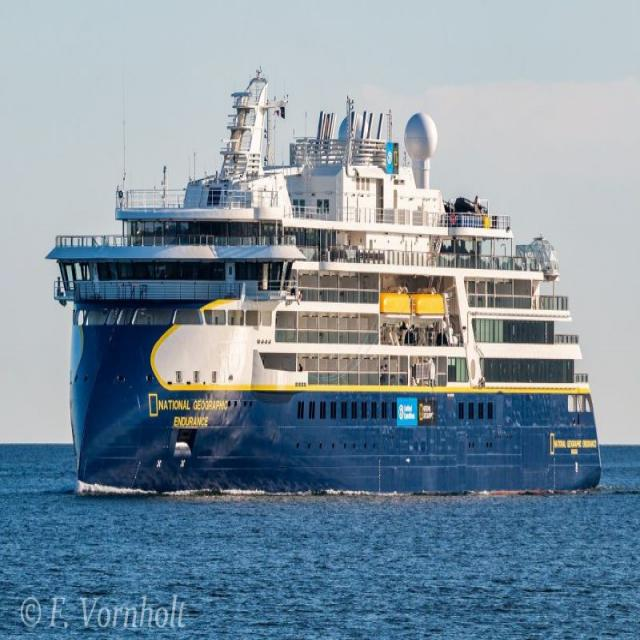cruises: (42, 58, 605, 501)
